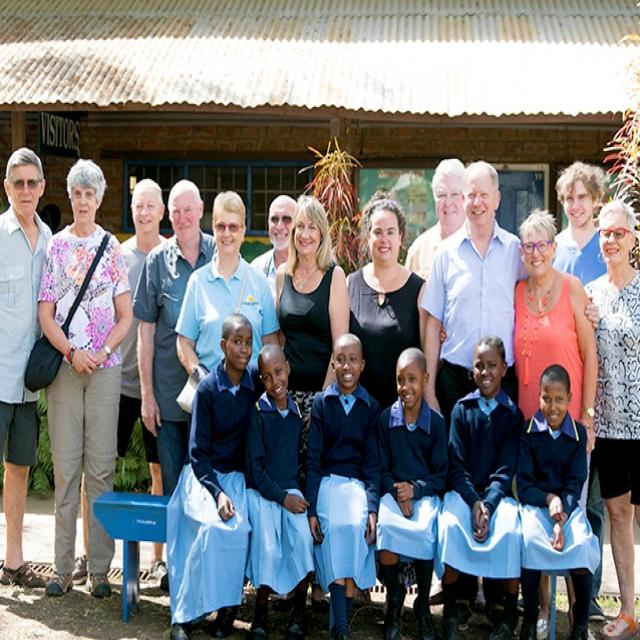body: (420, 158, 601, 632), (437, 207, 601, 640), (35, 153, 134, 602), (70, 178, 171, 586), (164, 310, 257, 639), (130, 178, 220, 502), (547, 156, 609, 624), (434, 331, 525, 639), (580, 199, 639, 639), (301, 330, 385, 639), (0, 144, 56, 591), (273, 192, 353, 501), (173, 190, 282, 416), (514, 361, 596, 640), (374, 344, 448, 638), (244, 340, 313, 638), (344, 192, 428, 413), (404, 156, 468, 286), (249, 192, 297, 308)
